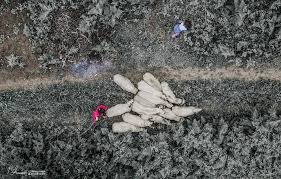sheep: (139, 89, 172, 108), (161, 79, 184, 105), (113, 73, 138, 95), (110, 121, 144, 136), (122, 112, 151, 129), (143, 70, 162, 92), (173, 104, 203, 117), (106, 102, 131, 117), (159, 107, 180, 122)
